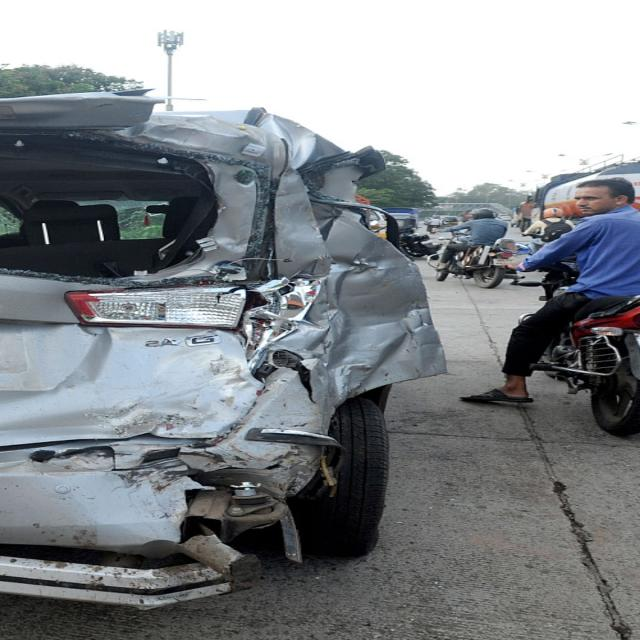accident: (0, 90, 444, 608)
